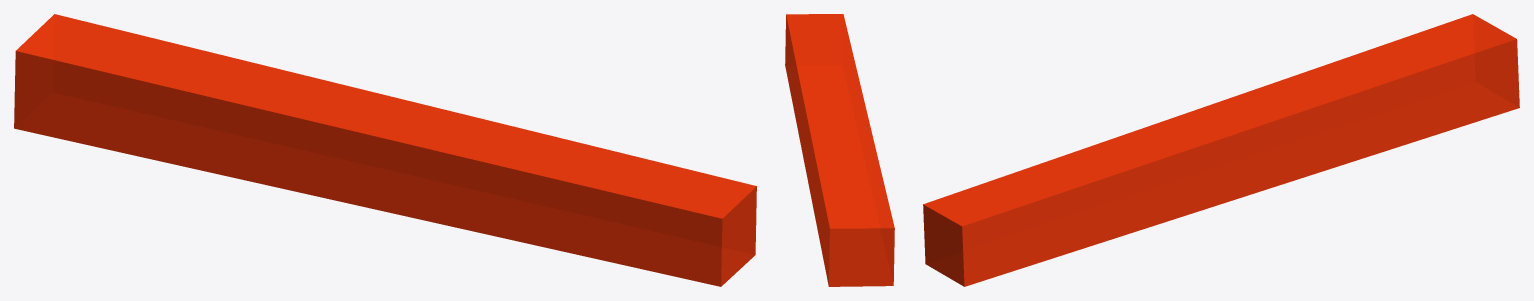
The model's file is Event_420094457_EBrechit_9.fbx.
3 views of the same model, side by side, from view 1: azimuth 30°, elevation 25°; view 2: azimuth 150°, elevation 25°; view 3: azimuth 270°, elevation 25° (orthographic). The views are drawn at different scales.
Visible parts, largest first — view 1: Model; view 2: Model; view 3: Model.
Boxes of the visible parts, left/top/right/bottom form: Model: left=14, top=14, right=756, bottom=286; Model: left=785, top=14, right=894, bottom=286; Model: left=923, top=14, right=1519, bottom=286.
Size of the model in its own units: 0.3731 by 0.0814 by 0.4997.
